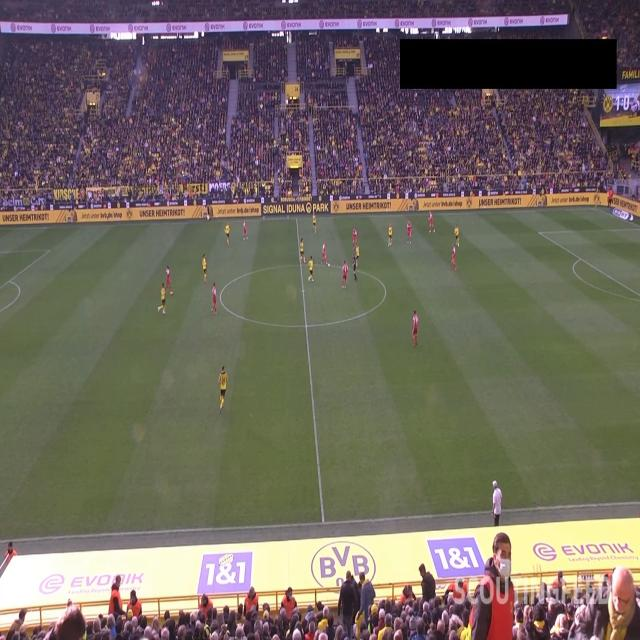ball: (328, 262, 330, 268)
